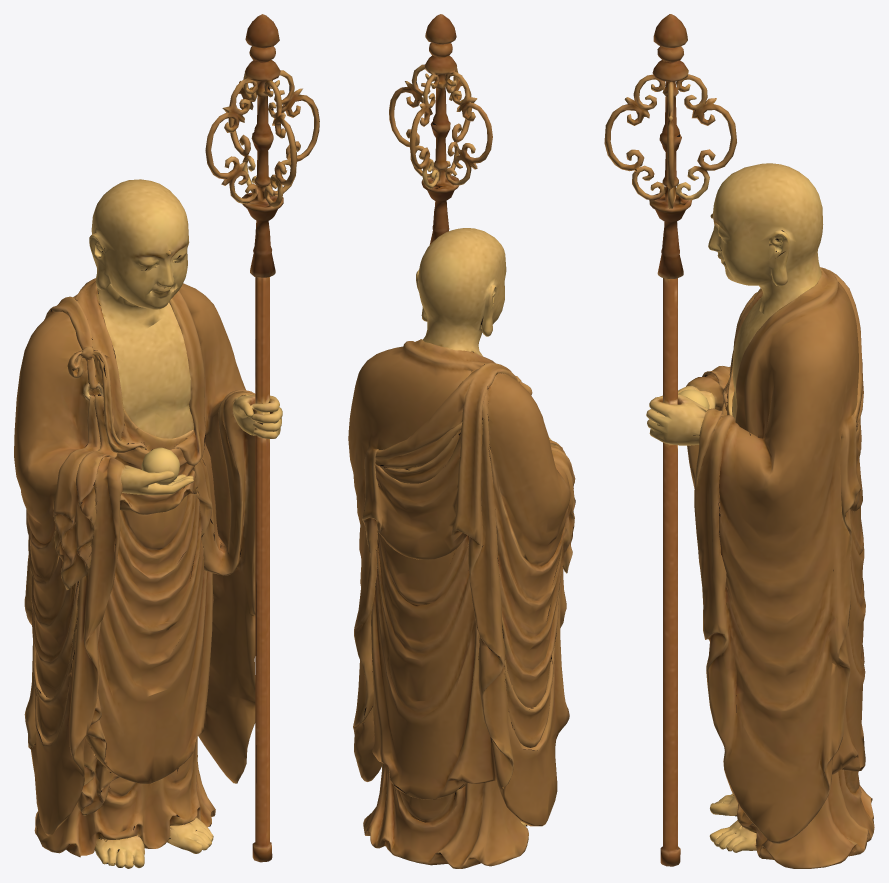
Rendered from dia-tang.glb.
3 renders of one model, left to right at view 1: azimuth 30°, elevation 25°; view 2: azimuth 150°, elevation 25°; view 3: azimuth 270°, elevation 25°, orthographic. The views are drawn at different scales.
Visible parts, largest first — view 1: dia-tang-low; view 2: dia-tang-low; view 3: dia-tang-low.
Boxes of the visible parts, x1,y1,x2,y2 form: dia-tang-low: [14, 14, 319, 868]; dia-tang-low: [348, 14, 575, 868]; dia-tang-low: [604, 14, 874, 868].
Size of the model in its own units: 0.3058 by 1 by 0.2881.
Materials: 1 (1 with a texture image).
